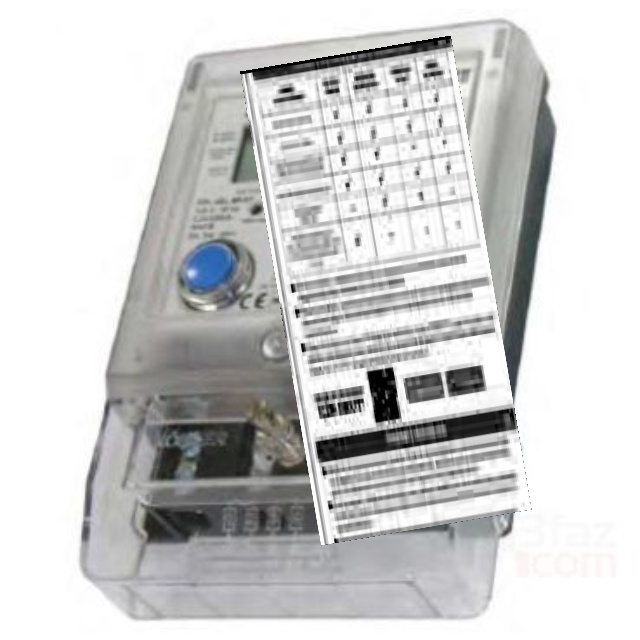electricity-bill: (240, 35, 532, 545)
